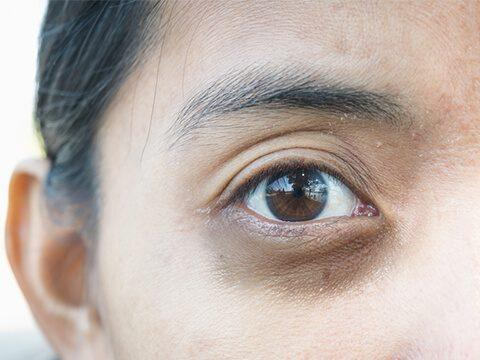Eyebags: (187, 191, 402, 308)
